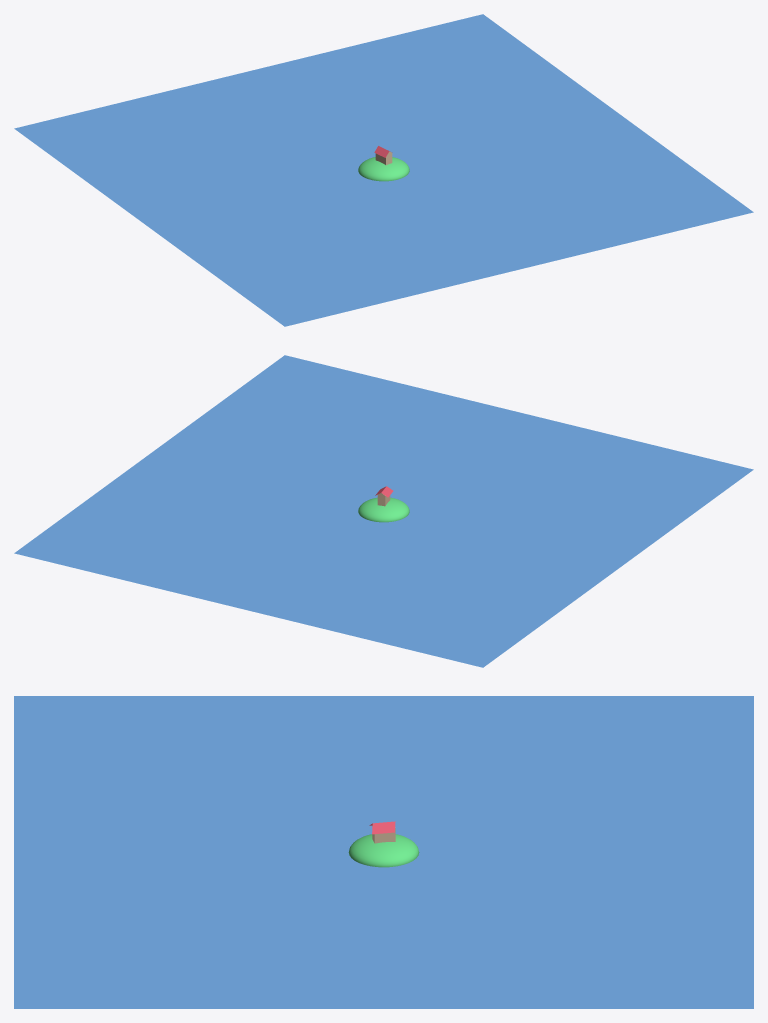
3 views of the same model, one above another, from view 1: azimuth 30°, elevation 25°; view 2: azimuth 150°, elevation 25°; view 3: azimuth 270°, elevation 25° (orthographic). The views are drawn at different scales.
Parts seen in each view (by area): view 1: Plane, Sphere; view 2: Plane, Sphere; view 3: Plane, Sphere.
Part boxes in pixels (x1=…): Plane: x1=14, y1=14, x2=753, y2=326; Sphere: x1=358, y1=157, x2=409, y2=181; Plane: x1=14, y1=355, x2=753, y2=667; Sphere: x1=358, y1=497, x2=409, y2=522; Plane: x1=14, y1=696, x2=753, y2=1008; Sphere: x1=348, y1=834, x2=419, y2=867.
Size of the model in its own units: 41.94 by 3.51 by 41.94.
